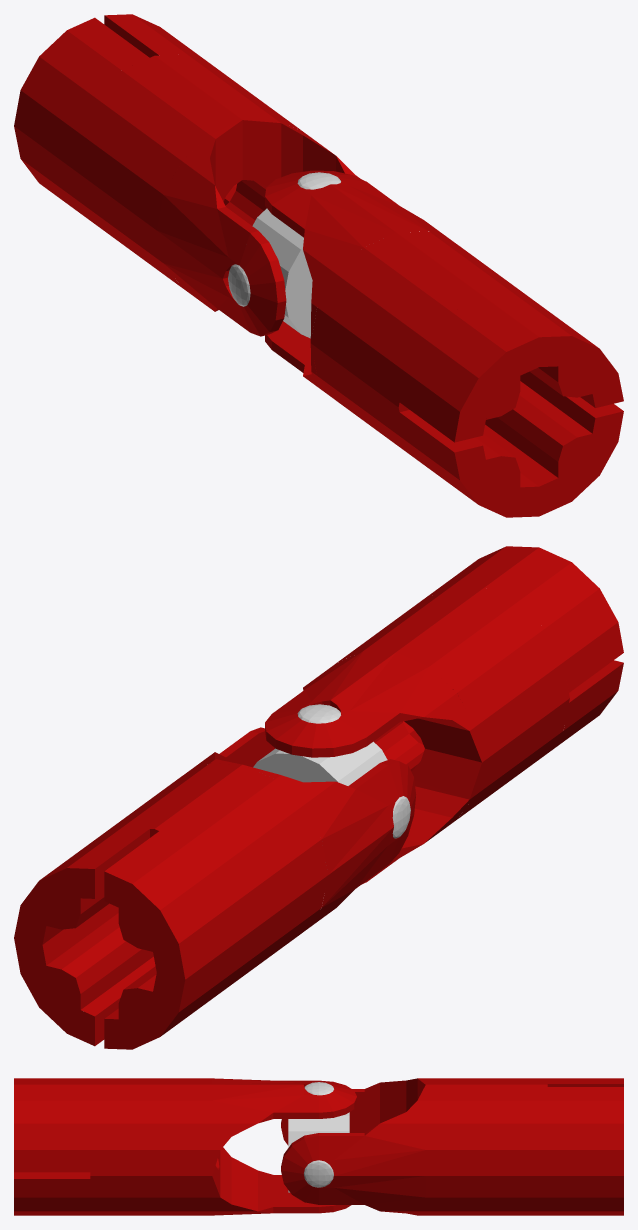
The picture shows the model from 3 angles, top to bottom: view 1: azimuth 30°, elevation 25°; view 2: azimuth 150°, elevation 25°; view 3: azimuth 270°, elevation 25°; orthographic projection. The views are drawn at different scales.
Visible parts, largest first — view 1: world; view 2: world; view 3: world.
Part boxes in pixels (<box>): world: <box>14,14,623,517</box>; world: <box>14,546,623,1049</box>; world: <box>14,1078,623,1215</box>.
Bounding box in the file's own units: 0.0072 × 0.0072 × 0.032.
